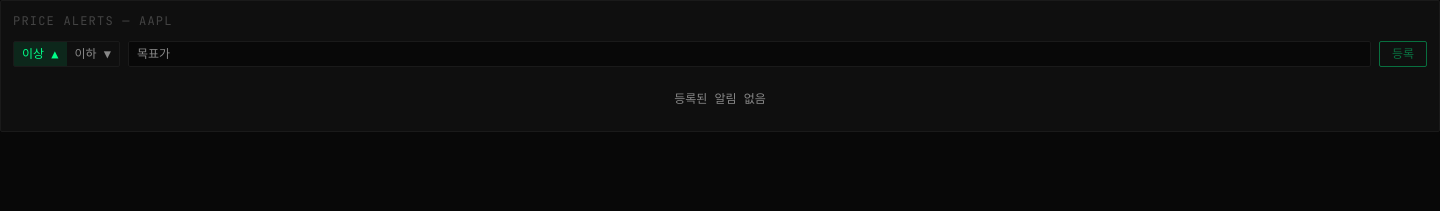
Scenario: PriceAlertPanel › 유효하지 않은 목표가(-1) 입력 시 유효성 에러를 표시한다
Step 1. Type "-1" into the number field with placeholder "목표가" → (749, 54), box [128, 41, 1371, 67]
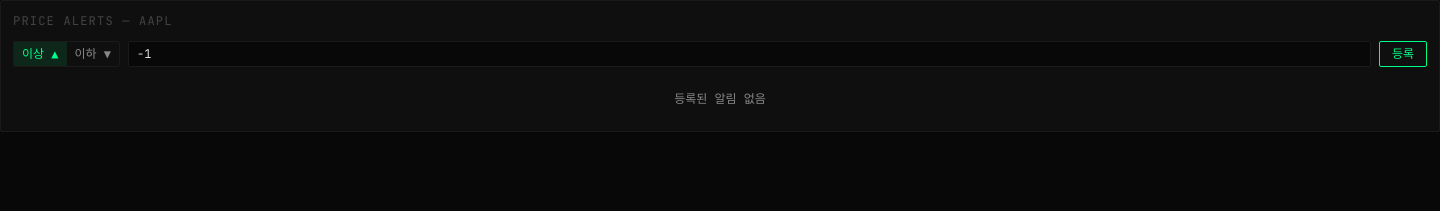
Step 2. Click the button "등록" → (1403, 54), box [1379, 41, 1427, 67]
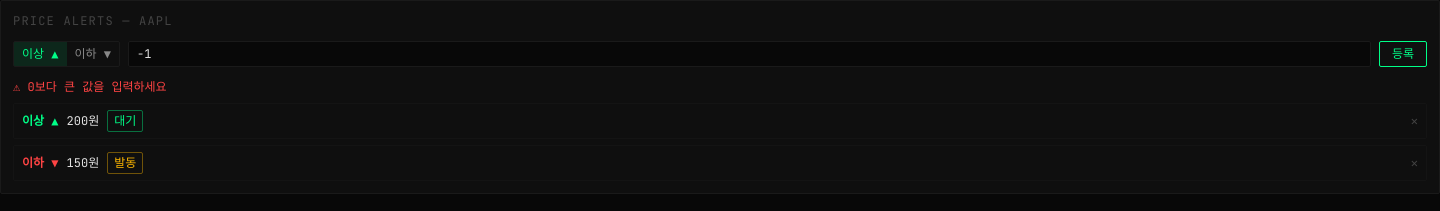
expect the text "⚠ 0보다 큰 값을 입력하세요" is shown: met, box [13, 79, 167, 95]
